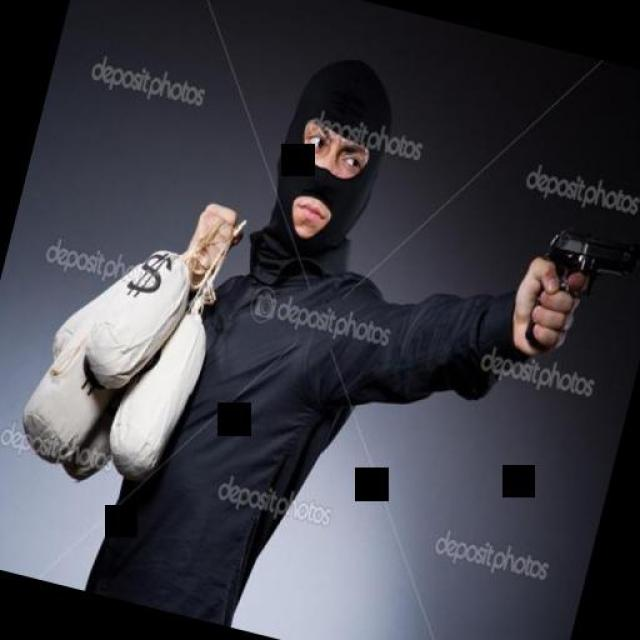gun: (500, 216, 640, 392)
